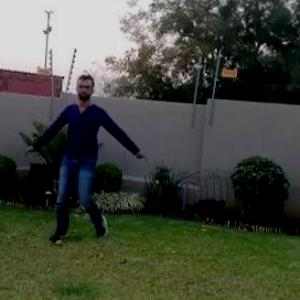land: (38, 82, 144, 222)
